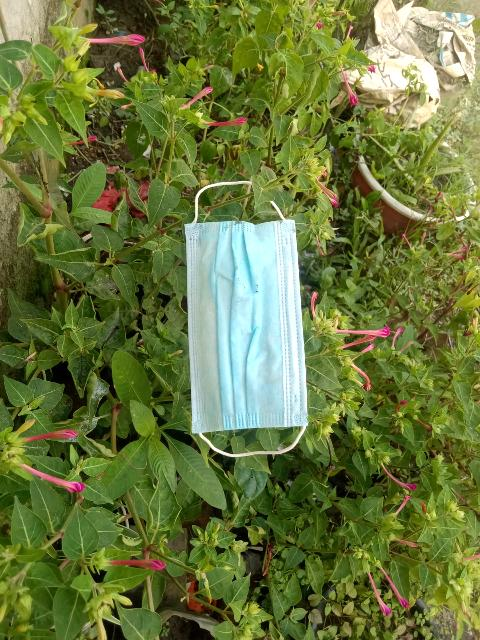mask: (179, 173, 315, 473)
